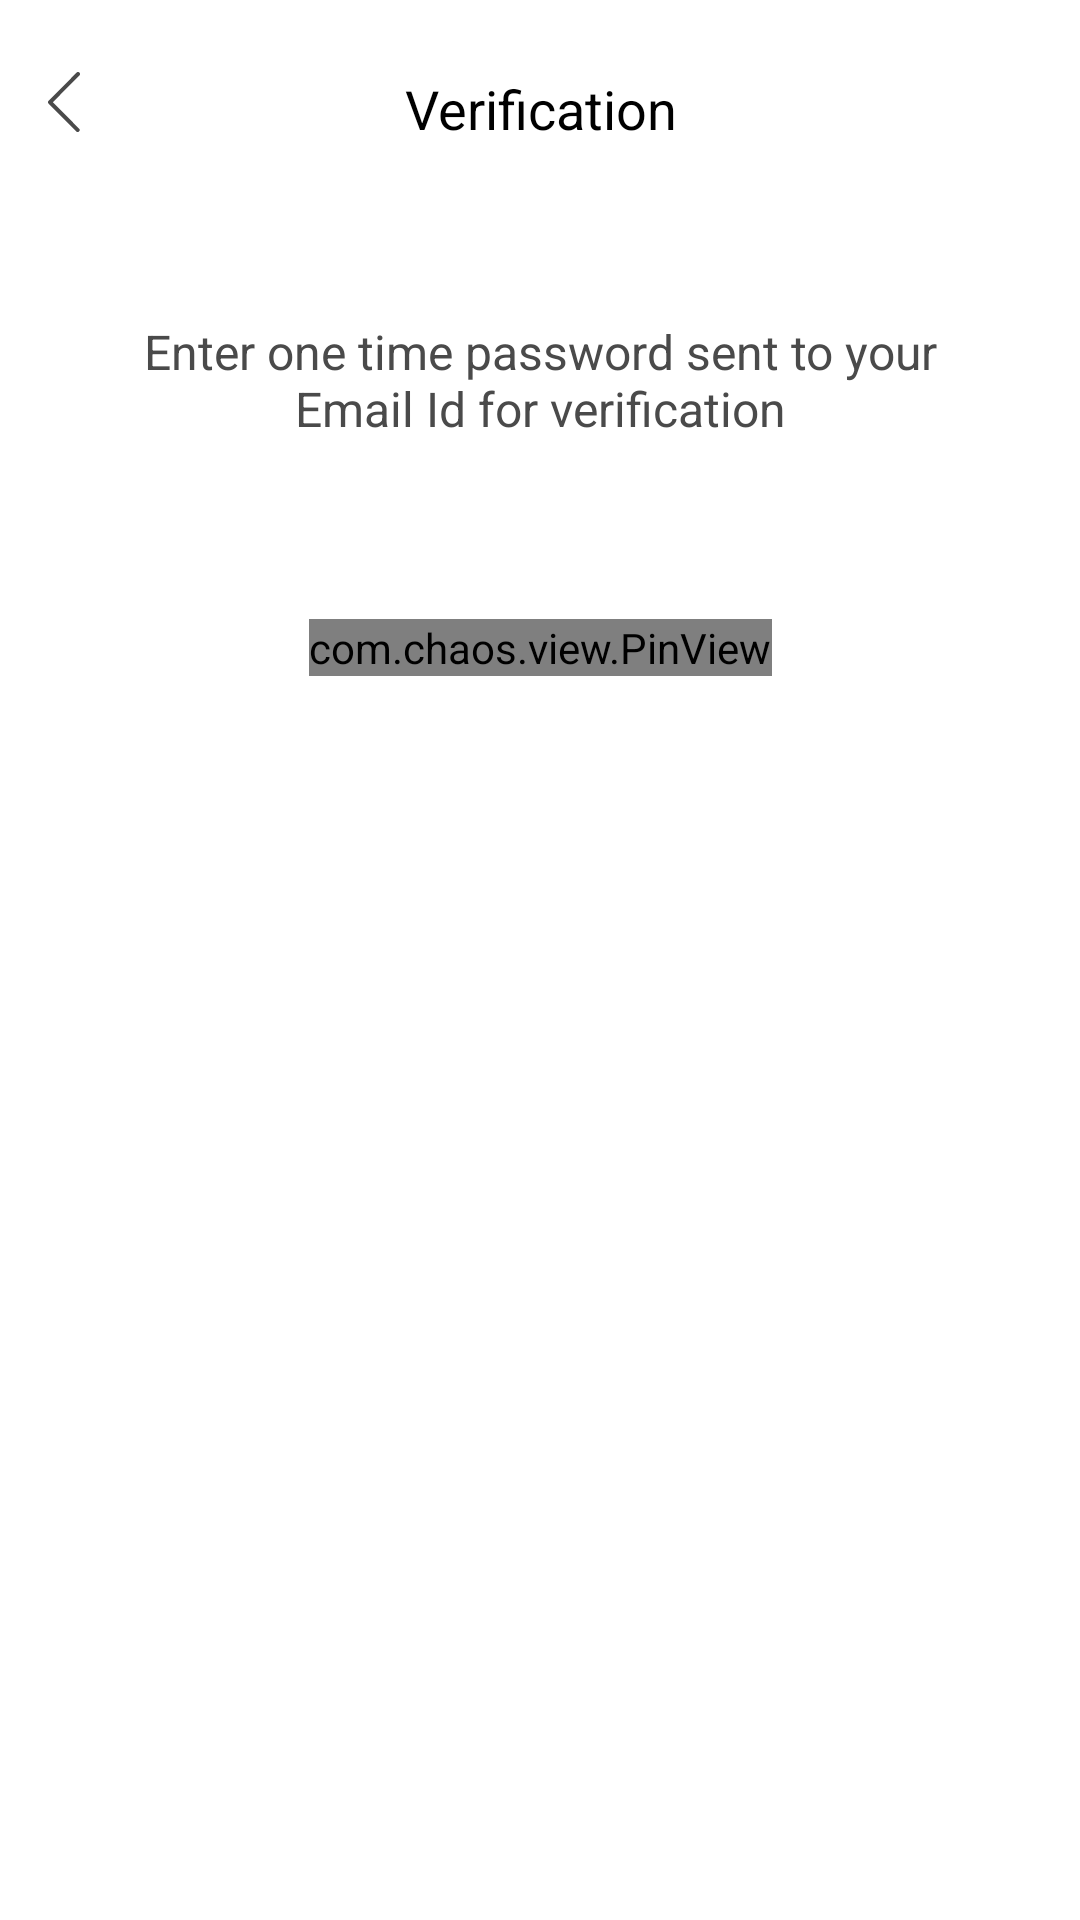

Where icons sit on this 1080x1920 app screen, as detection(x1, y1, x2, y2):
back post: detection(48, 72, 80, 132)
